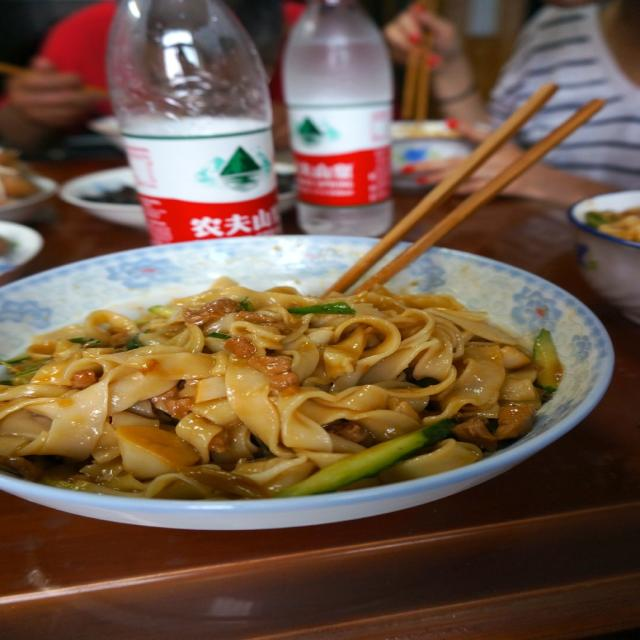Bottle: (103, 0, 291, 247), (280, 0, 392, 238)
